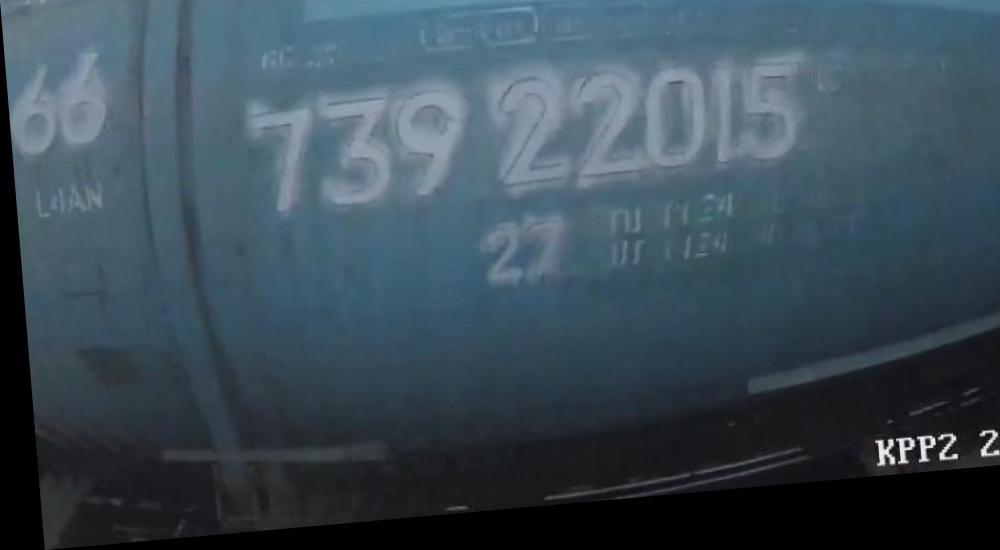Wagon-number: (244, 62, 811, 225)
